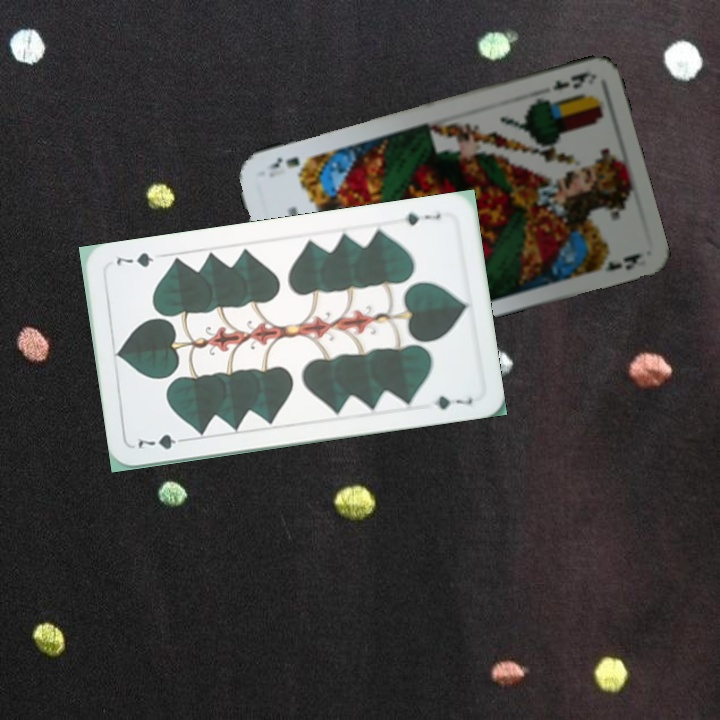EK: (548, 67, 595, 93)
G7: (133, 430, 191, 452), (400, 208, 444, 228)
